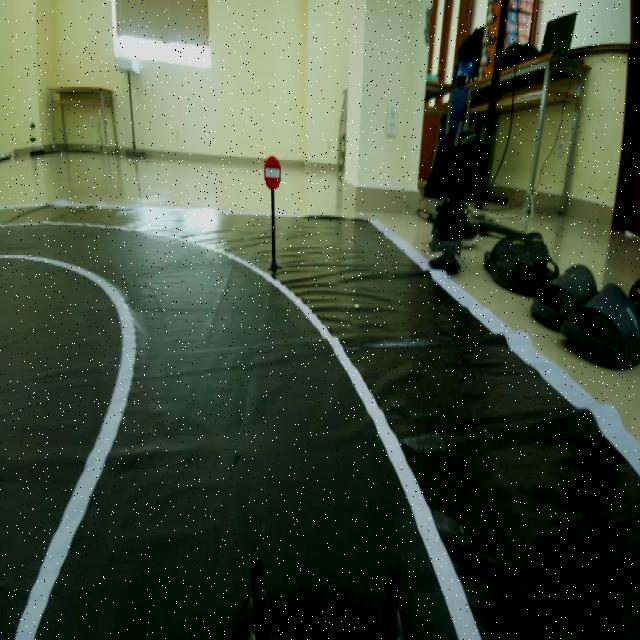no_entry: (260, 149, 284, 190)
